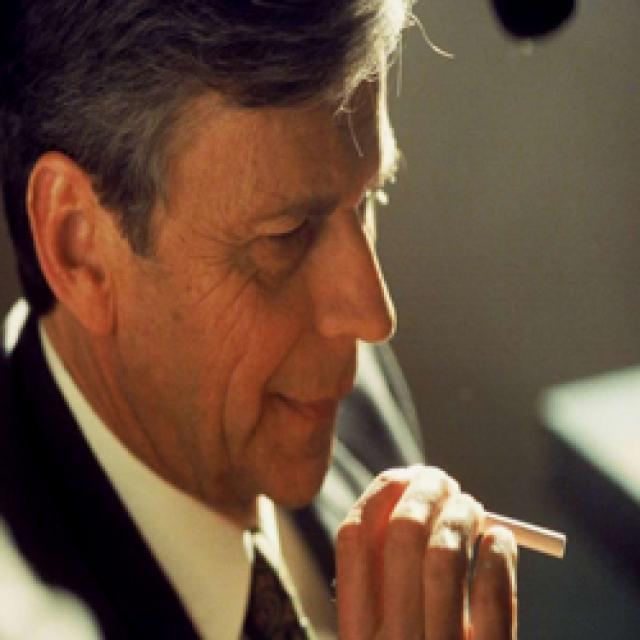Smooking: (470, 490, 586, 558)
